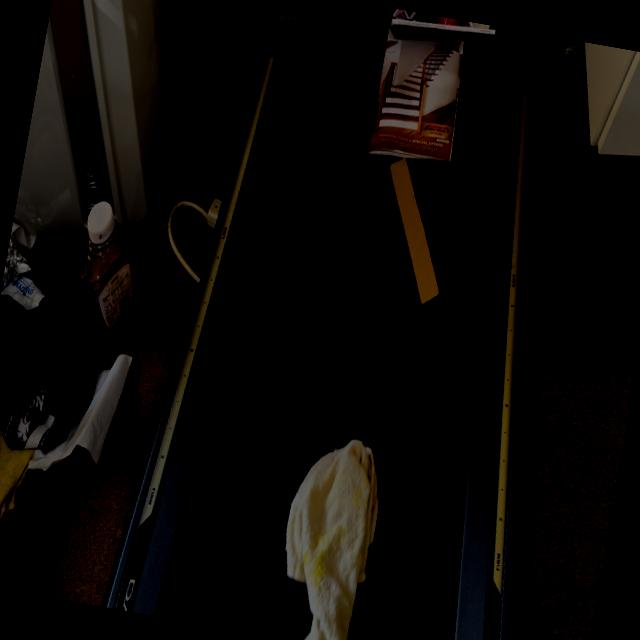Recycle: (367, 22, 473, 164), (366, 158, 460, 310), (388, 8, 498, 40)
Trash: (267, 428, 391, 640)
